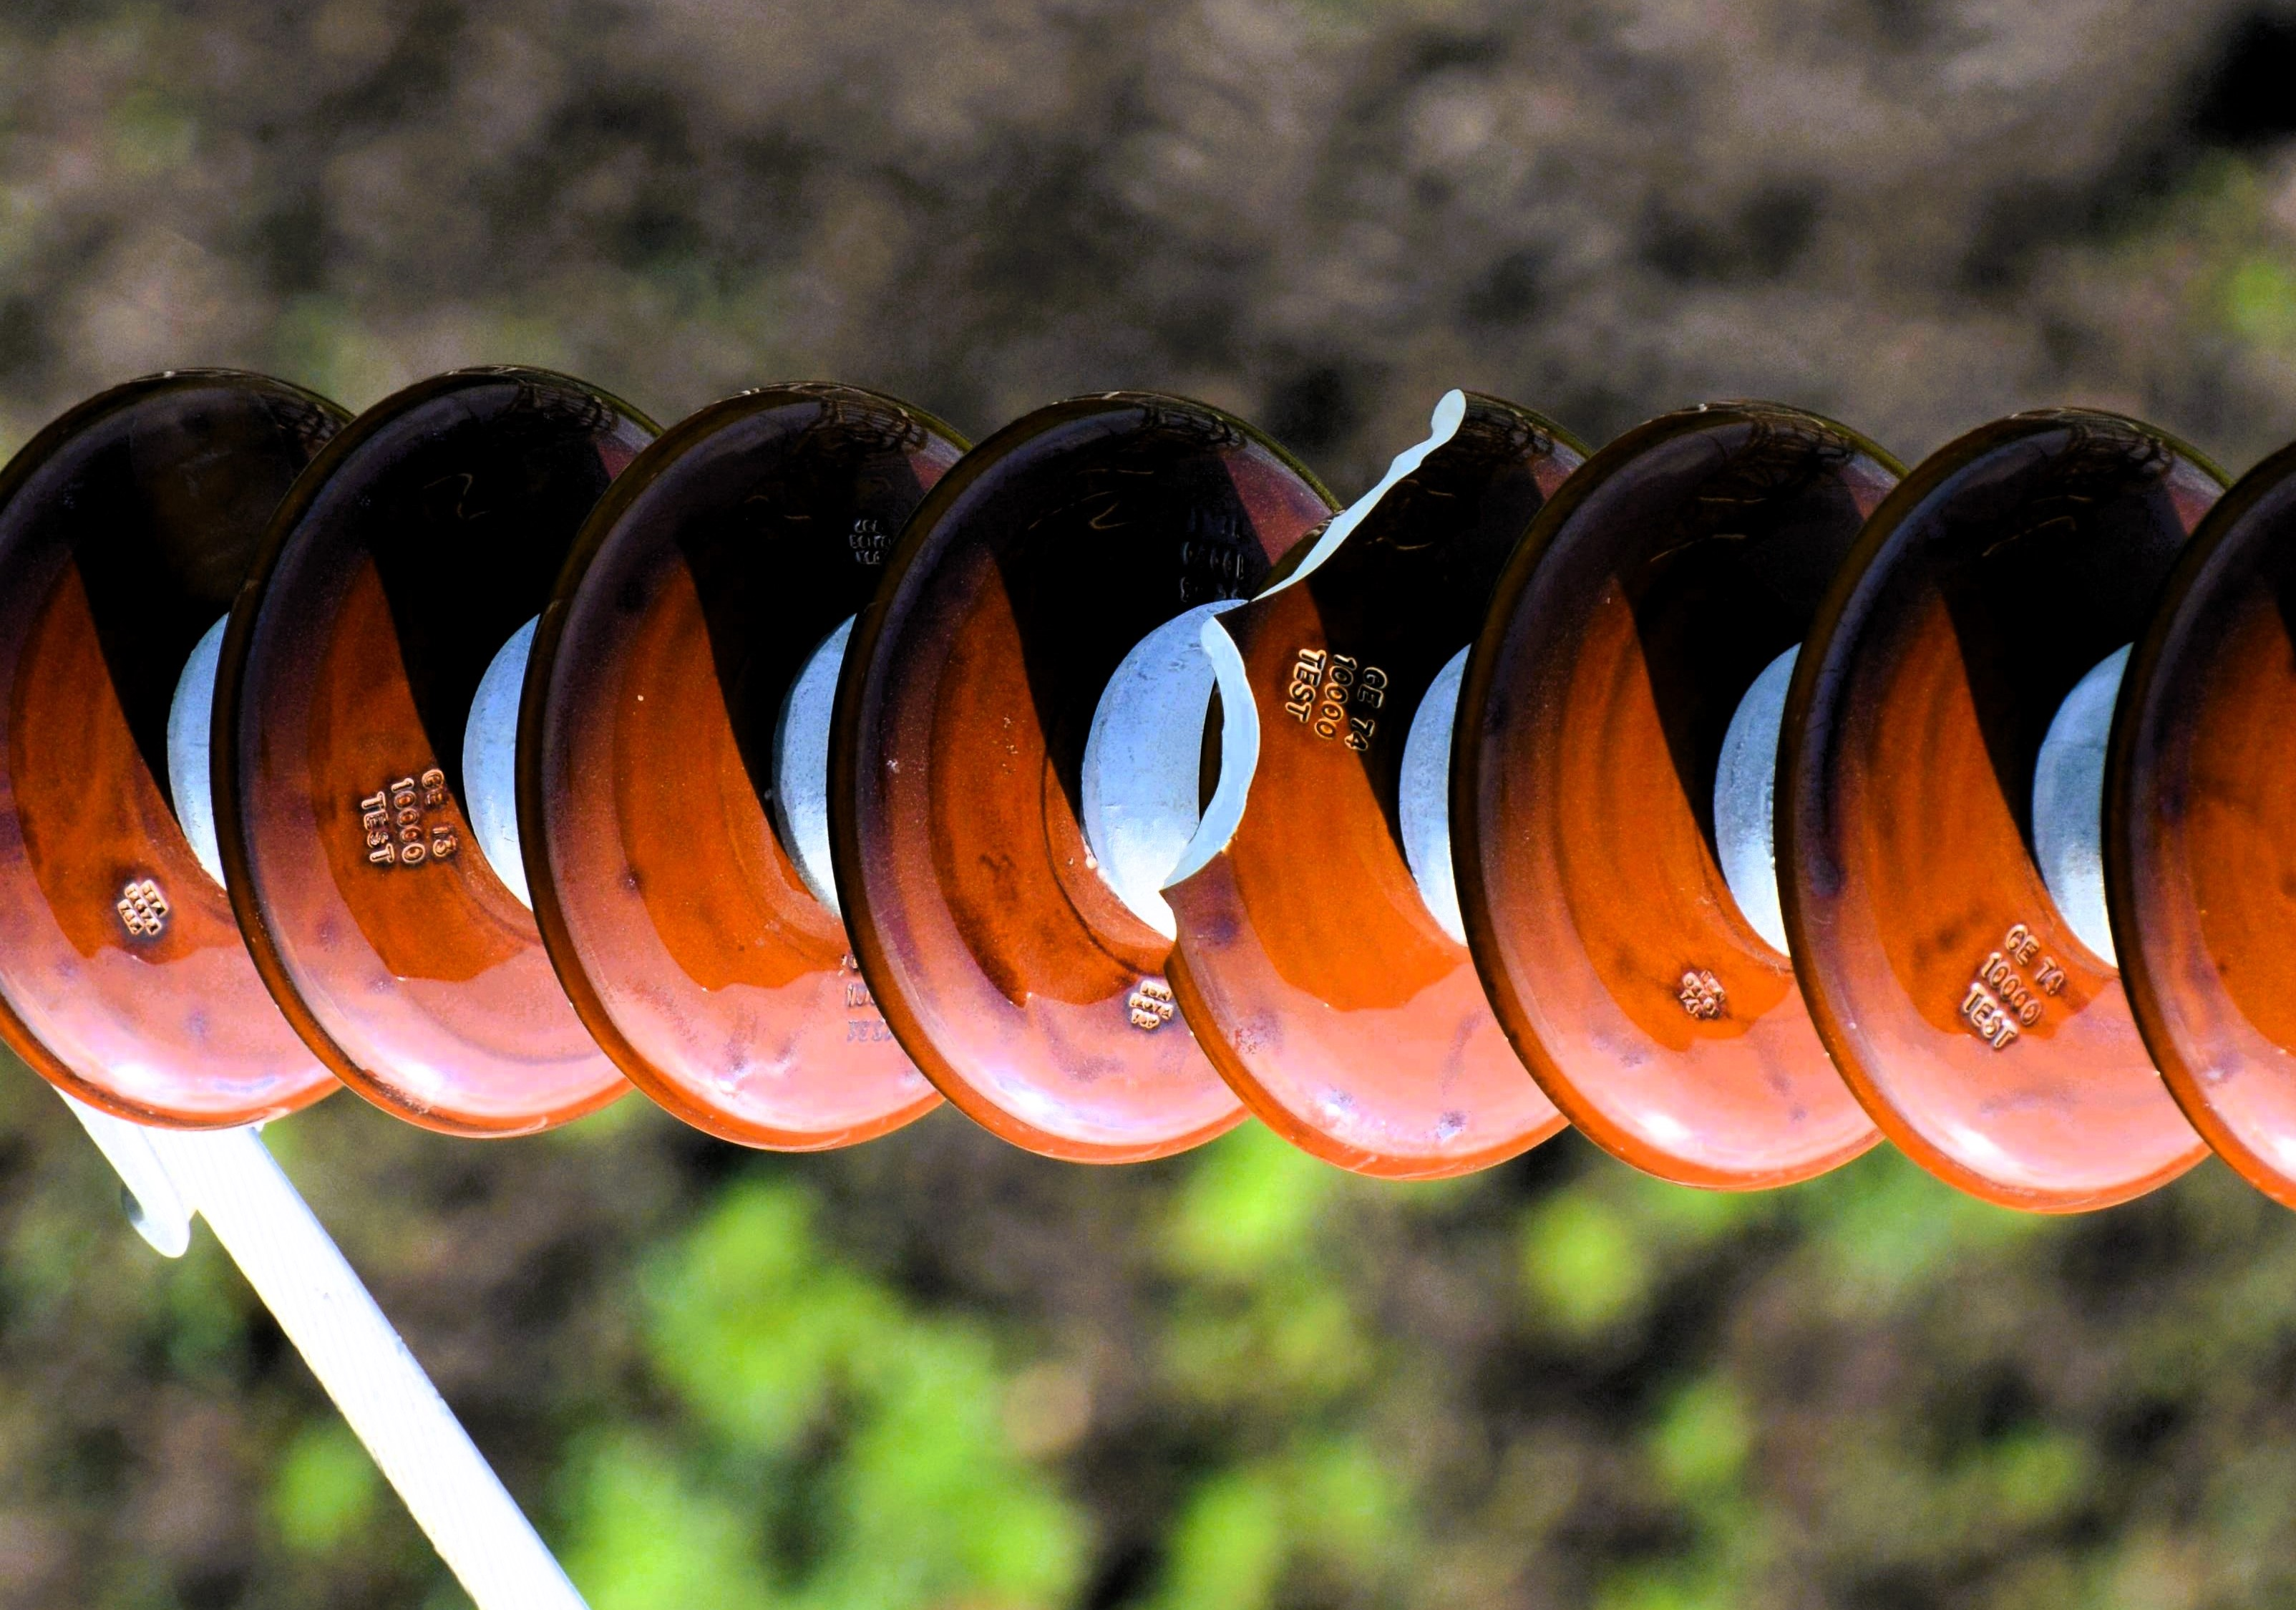insulator breakage: (1120, 319, 1602, 1197)
